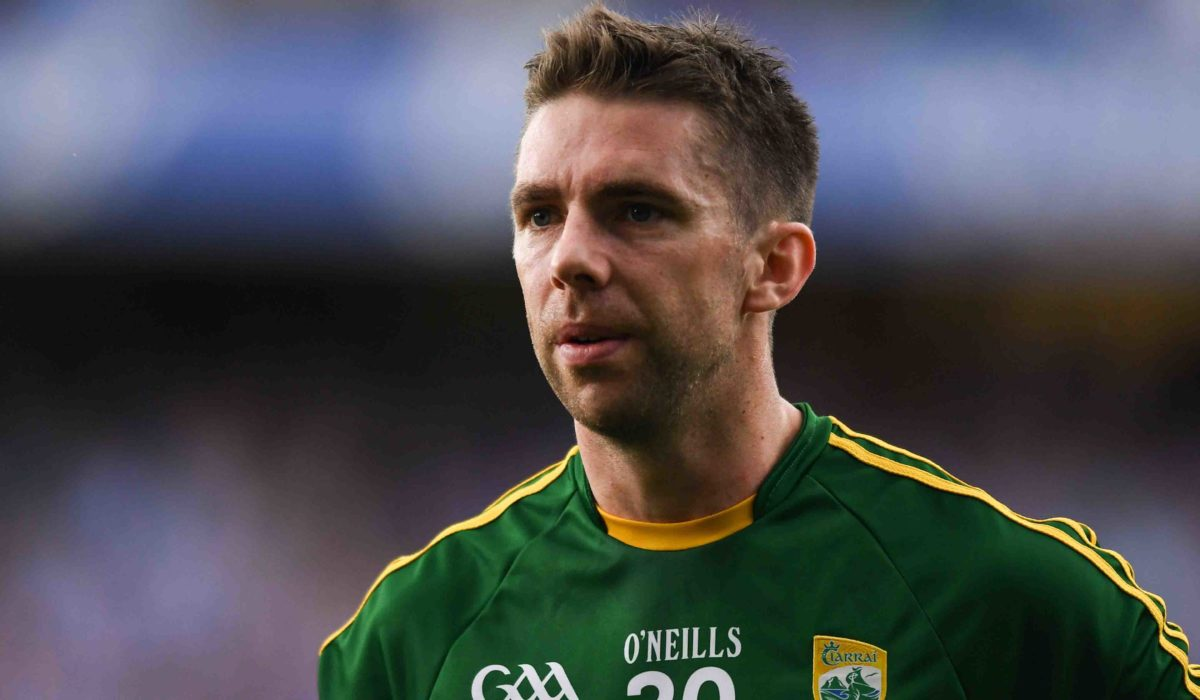player: (419, 17, 1109, 674)
